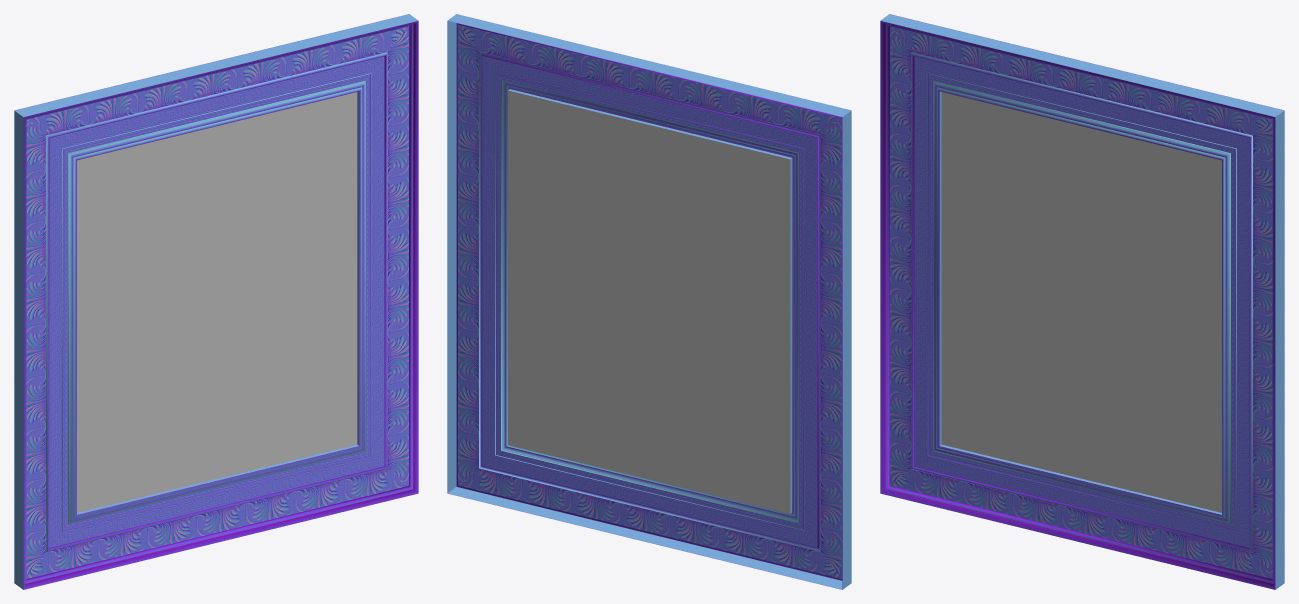
3 renders of one model, left to right at view 1: azimuth 30°, elevation 25°; view 2: azimuth 150°, elevation 25°; view 3: azimuth 330°, elevation 25°, orthographic.
Parts seen in each view (by area): view 1: _14_15, _14_15_frame; view 2: _14_15, _14_15_frame; view 3: _14_15, _14_15_frame.
Boxes of the visible parts, bbox=[...] form: _14_15: bbox=[77, 92, 357, 512]; _14_15_frame: bbox=[14, 14, 418, 589]; _14_15: bbox=[508, 90, 790, 513]; _14_15_frame: bbox=[447, 14, 851, 589]; _14_15: bbox=[941, 92, 1221, 512]; _14_15_frame: bbox=[880, 14, 1284, 589].
Size of the model in its own units: 105 by 120 by 4.27.
